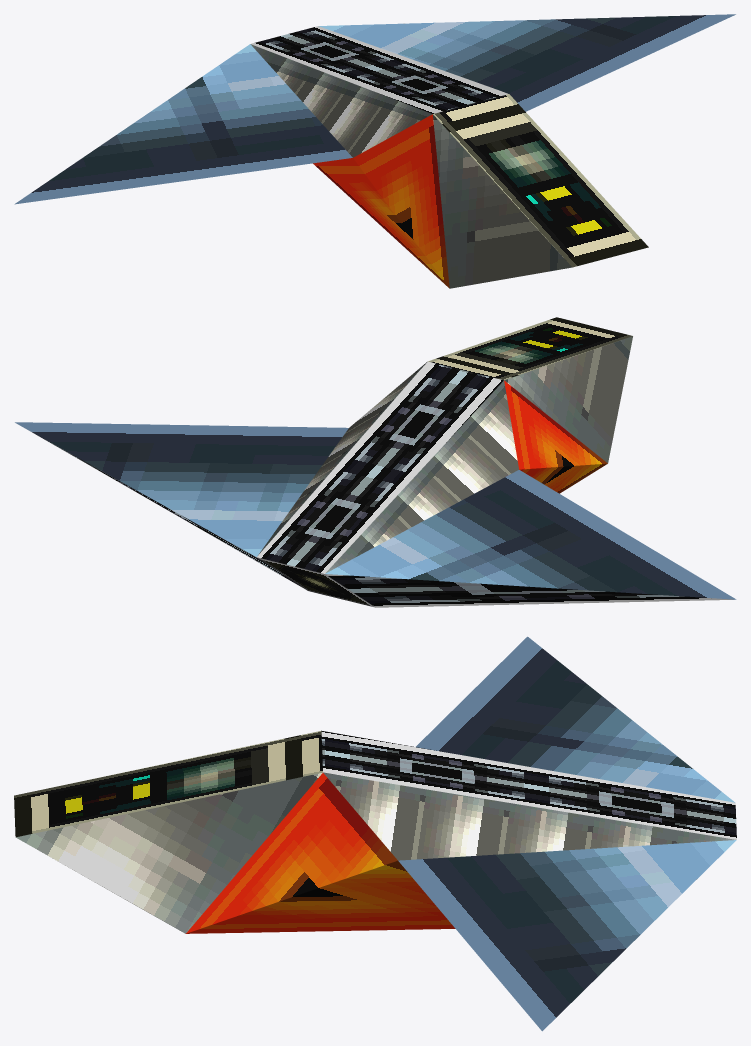
The model's file is fighter.dae.
3 renders of one model, top to bottom at view 1: azimuth 30°, elevation 25°; view 2: azimuth 150°, elevation 25°; view 3: azimuth 270°, elevation 25°, orthographic. The views are drawn at different scales.
Visible parts, largest first — view 1: cyan, silver, cockpit, orange, metal; view 2: cyan, metal, silver, cockpit, orange, light; view 3: cyan, silver, orange, metal, cockpit.
Part boxes in pixels (box(x1,y1,x2,y2)): cyan: box(14, 14, 735, 204); silver: box(250, 44, 572, 288); cockpit: box(433, 94, 648, 267); orange: box(313, 114, 449, 288); metal: box(251, 26, 508, 113); cyan: box(15, 422, 736, 599); metal: box(25, 361, 734, 607); silver: box(258, 336, 632, 573); cockpit: box(428, 317, 632, 380); orange: box(504, 380, 607, 493); light: box(257, 557, 375, 607); cyan: box(398, 636, 736, 1031); silver: box(16, 772, 735, 933); orange: box(186, 773, 455, 933); metal: box(321, 730, 736, 839); cockpit: box(14, 731, 322, 837).
Size of the model in its own units: 170 by 30.97 by 129.
Materials: 6 (6 with a texture image).
